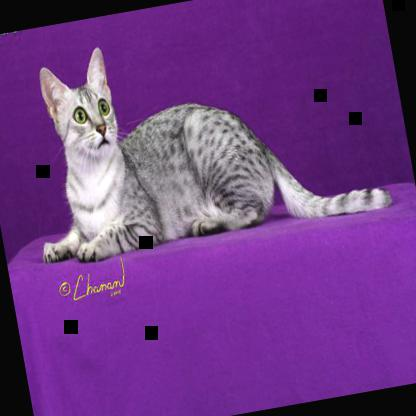cat: (9, 0, 395, 269)
